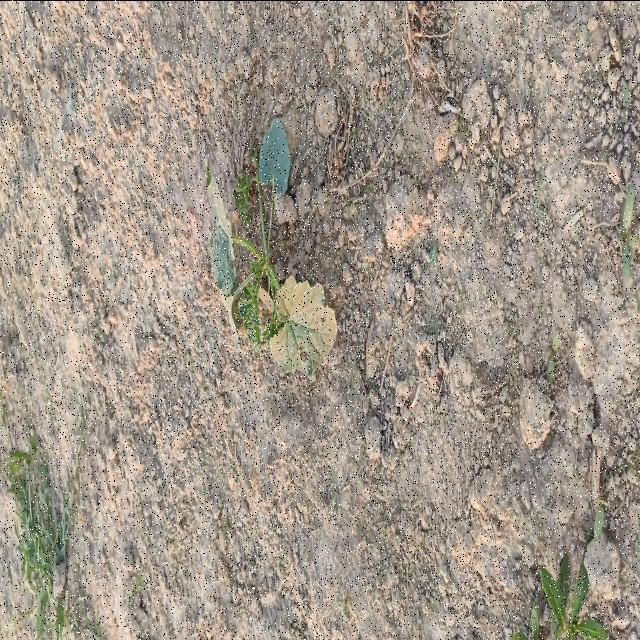plant: (205, 118, 339, 381)
